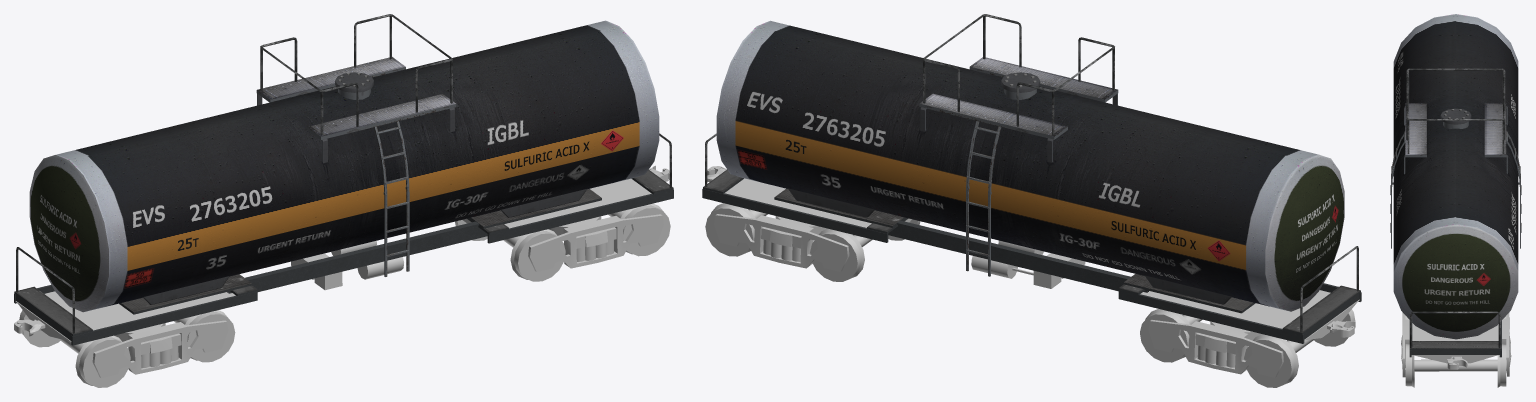
File: TrainTanker012.FBX
3 views of the same model, side by side, from view 1: azimuth 30°, elevation 25°; view 2: azimuth 150°, elevation 25°; view 3: azimuth 270°, elevation 25° (orthographic). The views are drawn at different scales.
Parts seen in each view (by area): view 1: TrainTanker012, TrainTanker0Wheels, TrainTanker0DetailBlack, TrainTanker0Down; view 2: TrainTanker012, TrainTanker0Wheels, TrainTanker0DetailBlack, TrainTanker0Down; view 3: TrainTanker012, TrainTanker0Wheels, TrainTanker0DetailBlack, TrainTanker0Down.
Boxes of the visible parts, x1,y1,x2,y2 form: TrainTanker012: [16, 14, 671, 333]; TrainTanker0Wheels: [19, 203, 670, 387]; TrainTanker0DetailBlack: [14, 170, 673, 345]; TrainTanker0Down: [14, 165, 669, 341]; TrainTanker012: [705, 14, 1358, 332]; TrainTanker0Wheels: [705, 203, 1355, 387]; TrainTanker0DetailBlack: [702, 169, 1361, 343]; TrainTanker0Down: [707, 166, 1359, 340]; TrainTanker012: [1390, 14, 1521, 348]; TrainTanker0Wheels: [1401, 312, 1511, 387]; TrainTanker0DetailBlack: [1409, 320, 1501, 357]; TrainTanker0Down: [1412, 323, 1498, 369].
Size of the model in its own units: 19420 by 7027 by 4327.
